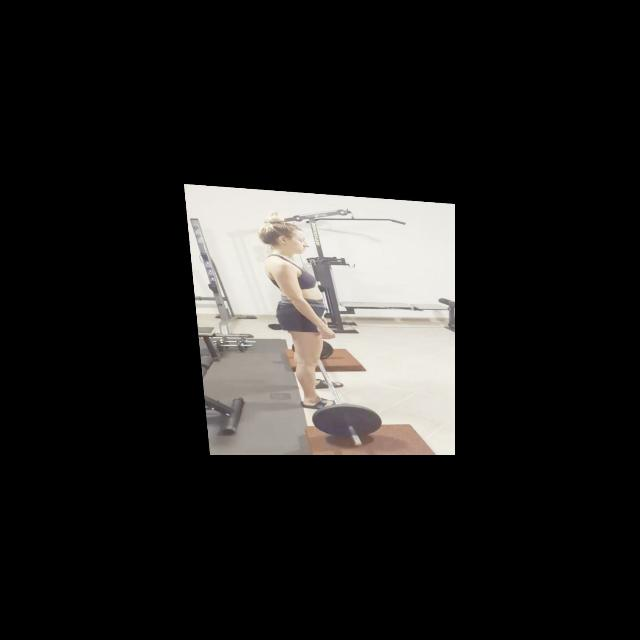barbell: (305, 397, 380, 448)
